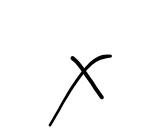mult: (49, 54, 113, 125)
